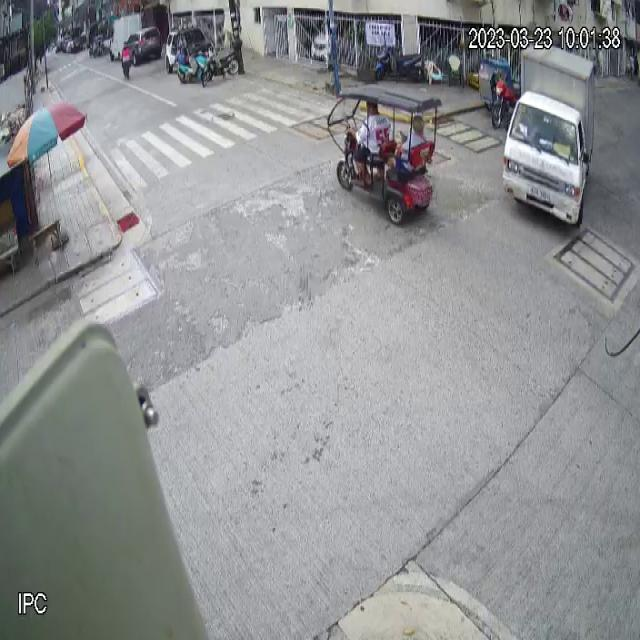Truck: (501, 44, 595, 226)
